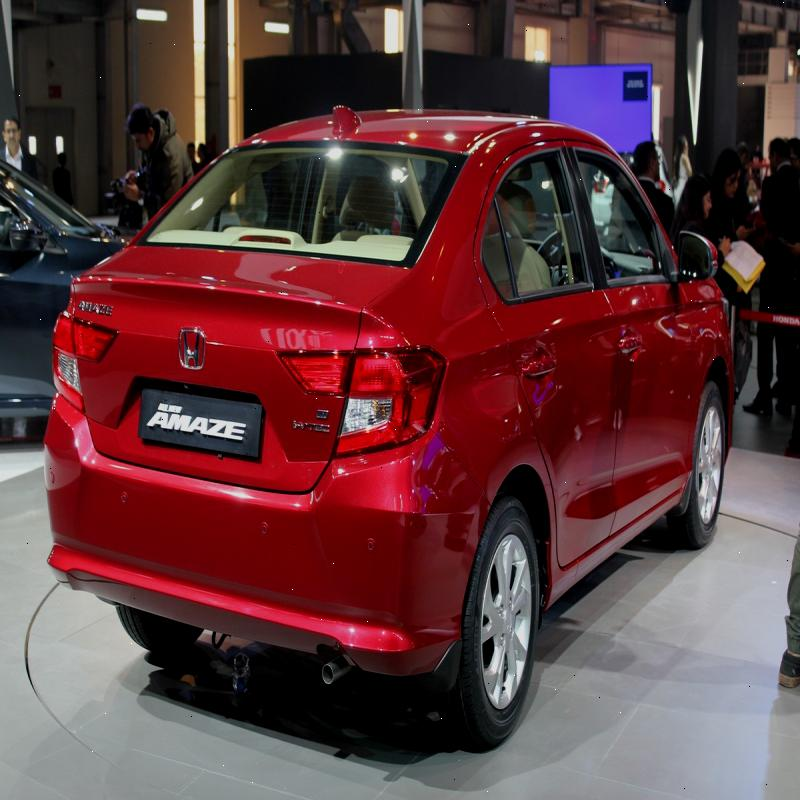car: (55, 69, 699, 716)
